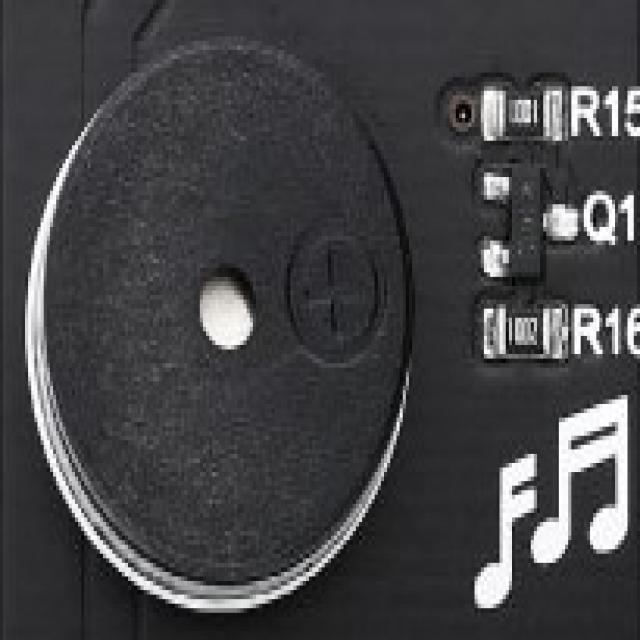4439: (494, 165, 556, 276)
buzzer: (37, 38, 418, 616)
resistor IR1: (496, 306, 556, 364), (491, 91, 548, 138)
